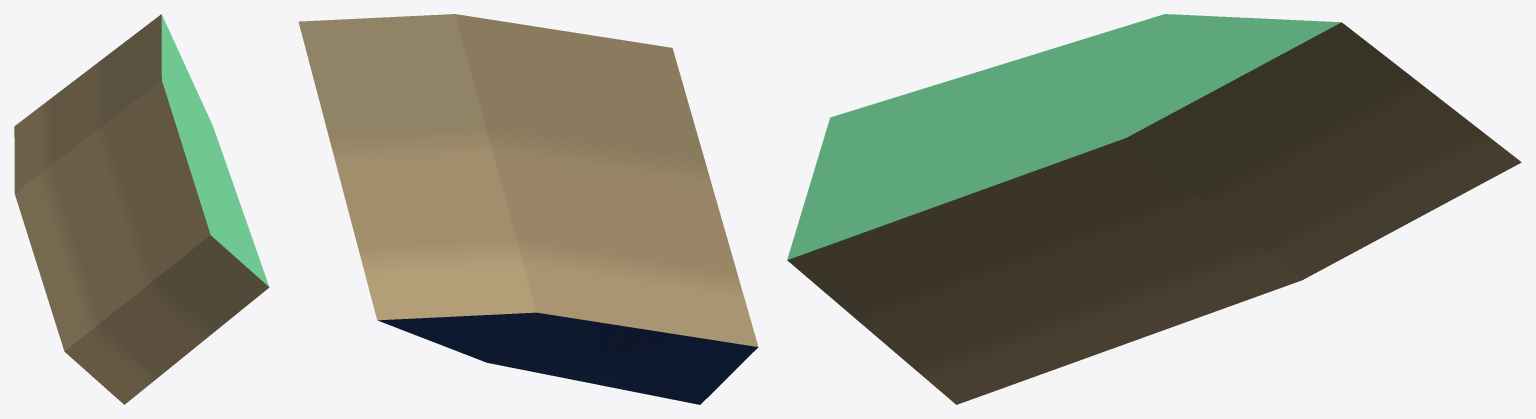
File: 0610_Israel.glb
The picture shows the model from 3 angles, left to right: view 1: azimuth 30°, elevation 25°; view 2: azimuth 150°, elevation 25°; view 3: azimuth 270°, elevation 25°; orthographic projection. The views are drawn at different scales.
Visible parts, largest first — view 1: part_0; view 2: part_0; view 3: part_0.
Part boxes in pixels (x1,y1,x2,y2): part_0: (14, 14, 269, 404); part_0: (298, 14, 758, 404); part_0: (787, 14, 1521, 404).
Bounding box in the file's own units: 0.2165 × 0.3029 × 0.3956.
1 material, 1 textured.
